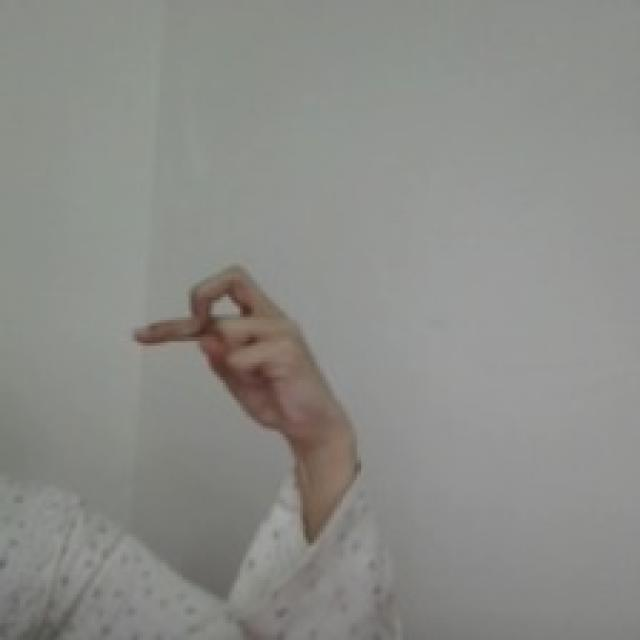sunday: (128, 256, 335, 444)
